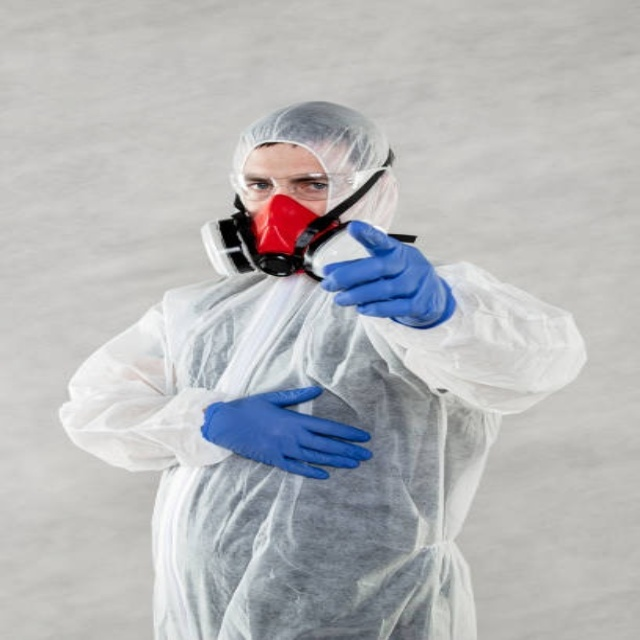Gafas: (234, 170, 361, 202)
Guantes: (201, 385, 375, 479), (317, 222, 453, 328)
Mascara: (193, 191, 318, 279)
